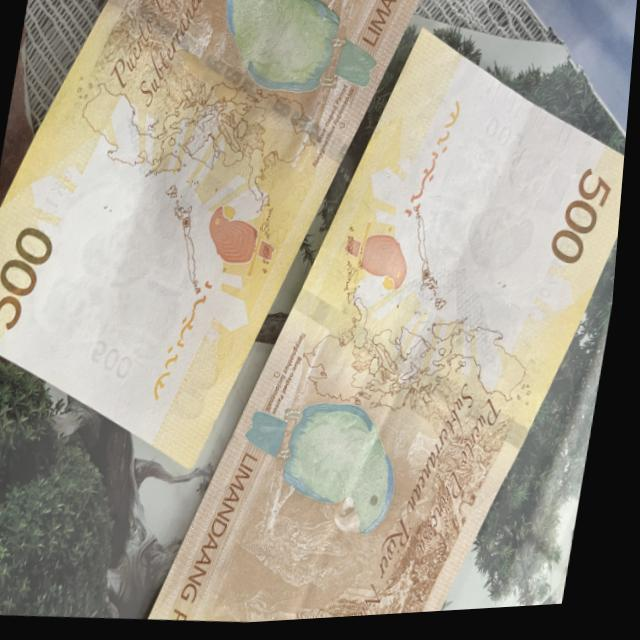500_big_parrot: (236, 390, 420, 551), (207, 0, 392, 119)
500_parrot_watermark: (337, 218, 426, 311), (200, 200, 289, 281)
value_watermark: (91, 334, 144, 390), (480, 111, 535, 163)
watermark: (31, 199, 205, 390), (419, 131, 578, 314)
